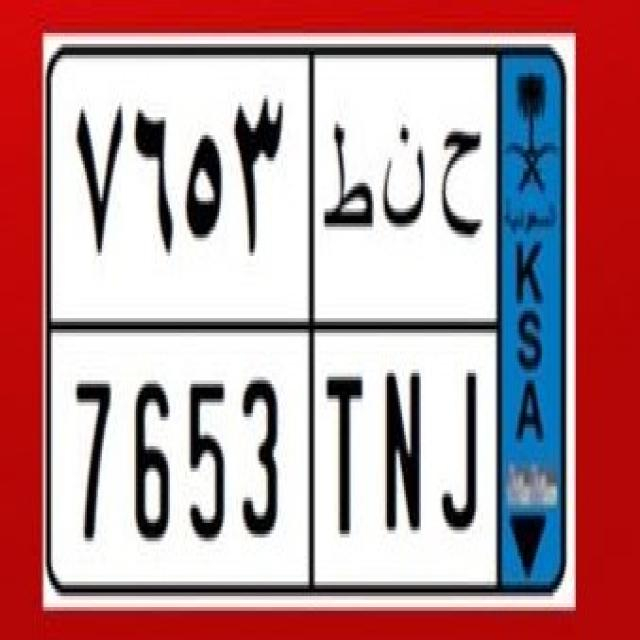license_plate: (69, 366, 487, 556)
